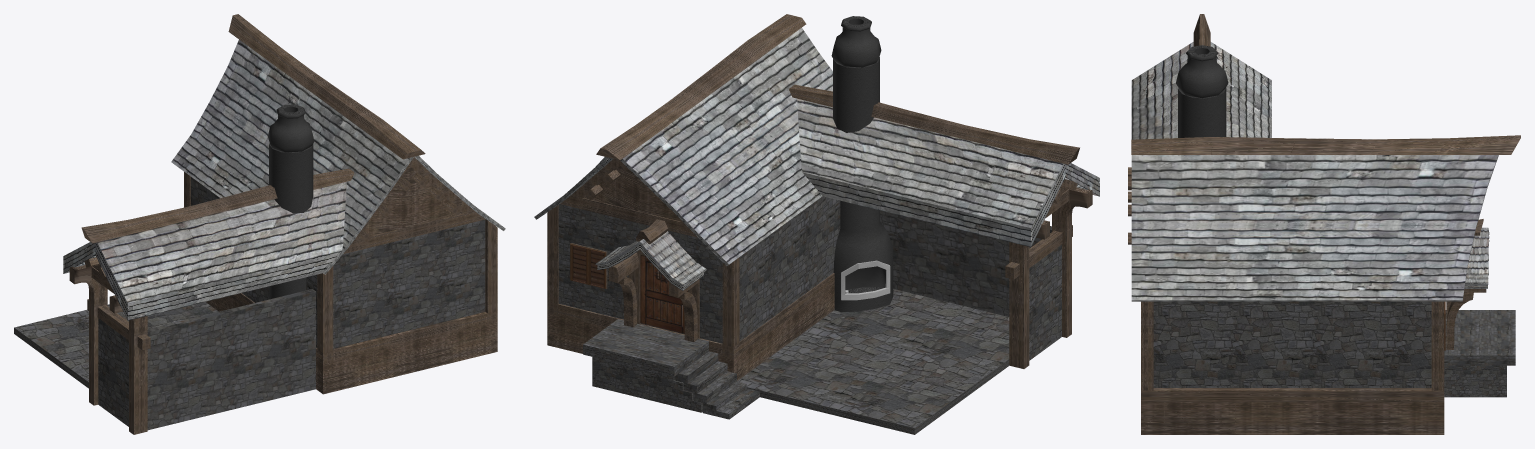
File: Blacksmith.fbx
3 renders of one model, left to right at view 1: azimuth 30°, elevation 25°; view 2: azimuth 150°, elevation 25°; view 3: azimuth 270°, elevation 25°, orthographic. The views are drawn at different scales.
Visible parts, largest first — view 1: Blacksmith:pCube24, Blacksmith:pCube93, Blacksmith:pCube45, Blacksmith:pPlane7, Blacksmith:pCube94, Blacksmith:pCube91, Blacksmith:pCube36, Blacksmith:pCube67, Blacksmith:pCylinder3, Blacksmith:pCube44, Blacksmith:pPlane8, Blacksmith:pCube42 (+10 smaller); view 2: Blacksmith:pCube93, Blacksmith:pCube36, Blacksmith:pCube24, Blacksmith:pPlane2, Blacksmith:pCube45, Blacksmith:pPlane4, Blacksmith:pCylinder3, Blacksmith:pCube91, Blacksmith:pCube33, Blacksmith:pCube94, Blacksmith:pCube67, Blacksmith:pCube44 (+25 smaller); view 3: Blacksmith:pCube92, Blacksmith:Blacksmith_LeftWall_LowPoly:pPlane8, Blacksmith:pCube94, Blacksmith:pCube24, Blacksmith:pCube91, Blacksmith:pCube51, Blacksmith:pCube33, Blacksmith:pCylinder3, Blacksmith:___pCube100, Blacksmith:pCylinder2, Blacksmith:pCube48, Blacksmith:pCube54 (+3 smaller).
Boxes of the visible parts, bbox=[...] form: Blacksmith:pCube24: bbox=[63, 181, 346, 320]; Blacksmith:pCube93: bbox=[171, 39, 413, 274]; Blacksmith:pCube45: bbox=[147, 289, 315, 430]; Blacksmith:pPlane7: bbox=[333, 219, 485, 348]; Blacksmith:pCube94: bbox=[206, 296, 497, 394]; Blacksmith:pCube91: bbox=[228, 14, 425, 159]; Blacksmith:pCube36: bbox=[14, 302, 218, 388]; Blacksmith:pCube67: bbox=[81, 168, 354, 243]; Blacksmith:pCylinder3: bbox=[266, 143, 313, 300]; Blacksmith:pCube44: bbox=[98, 318, 128, 426]; Blacksmith:pPlane8: bbox=[357, 166, 462, 239]; Blacksmith:pCube42: bbox=[109, 295, 147, 434]; Blacksmith:pCube93: bbox=[620, 28, 832, 265]; Blacksmith:pCube36: bbox=[737, 289, 1009, 434]; Blacksmith:pCube24: bbox=[797, 98, 1099, 246]; Blacksmith:pPlane2: bbox=[558, 204, 722, 343]; Blacksmith:pCube45: bbox=[880, 210, 1051, 316]; Blacksmith:pPlane4: bbox=[739, 196, 840, 341]; Blacksmith:pCylinder3: bbox=[833, 57, 893, 312]; Blacksmith:pCube91: bbox=[596, 14, 806, 160]; Blacksmith:pCube33: bbox=[583, 319, 708, 376]; Blacksmith:pCube94: bbox=[547, 285, 834, 380]; Blacksmith:pCube67: bbox=[789, 84, 1079, 164]; Blacksmith:pCube44: bbox=[1029, 245, 1061, 360]; Blacksmith:pCube92: bbox=[1131, 155, 1498, 301]; Blacksmith:Blacksmith_LeftWall_LowPoly:pPlane8: bbox=[1153, 301, 1431, 387]; Blacksmith:pCube94: bbox=[1141, 402, 1444, 434]; Blacksmith:pCube24: bbox=[1131, 42, 1271, 139]; Blacksmith:pCube91: bbox=[1131, 135, 1520, 154]; Blacksmith:pCube51: bbox=[1141, 388, 1444, 401]; Blacksmith:pCube33: bbox=[1444, 310, 1515, 365]; Blacksmith:pCylinder3: bbox=[1178, 87, 1226, 137]; Blacksmith:___pCube100: bbox=[1444, 365, 1506, 397]; Blacksmith:pCylinder2: bbox=[1176, 45, 1228, 97]; Blacksmith:pCube48: bbox=[1431, 301, 1444, 390]; Blacksmith:pCube54: bbox=[1141, 301, 1153, 390].
Bounding box in the file's own units: 150 × 97.35 × 120.
